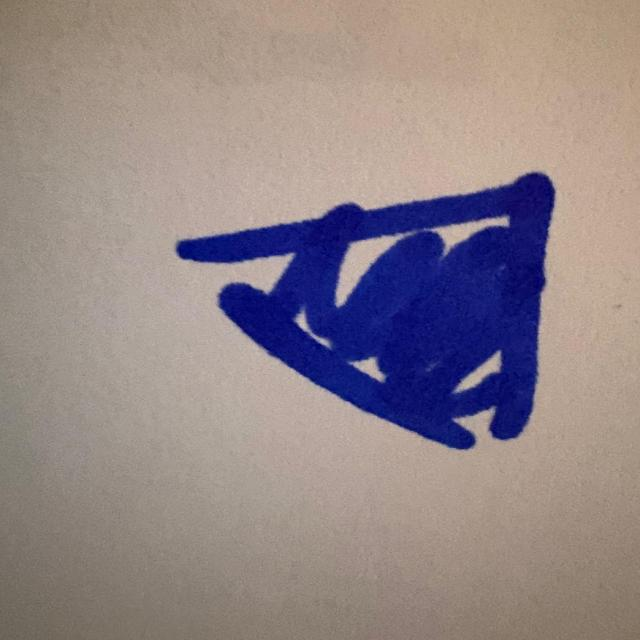Triangle: (170, 167, 567, 455)
